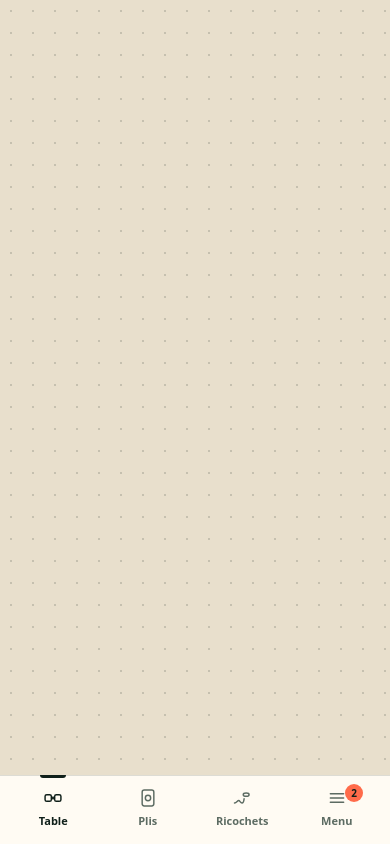
menu burger mobile › annonce les récompenses de quêtes à récupérer
Click the button "Menu 2" at point(337, 808), box [290,784,384,832]
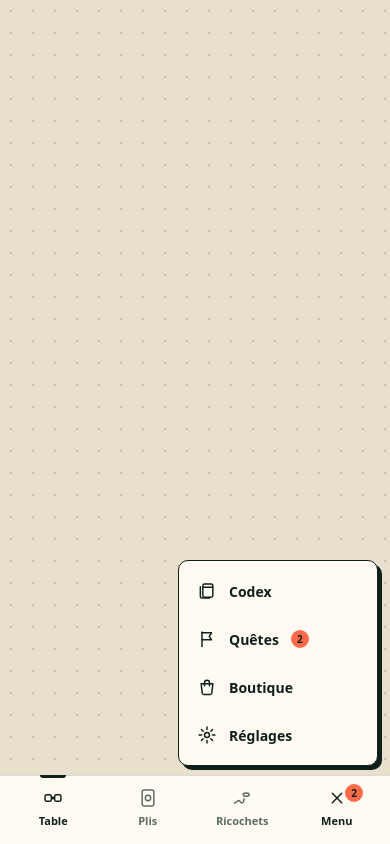
Expected: the text named "2 récompenses à récupérer" is shown, [291,630,309,648]
